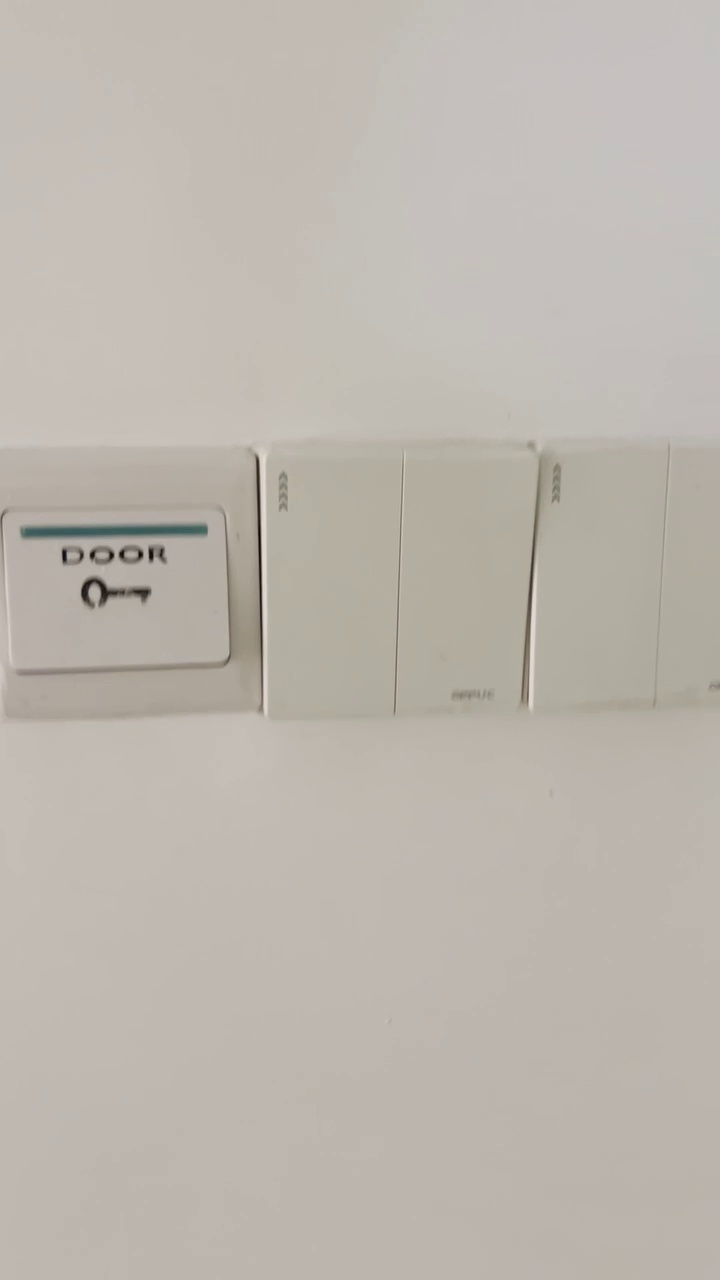button1: (530, 452, 662, 710), (269, 458, 393, 713), (402, 457, 526, 705), (662, 447, 719, 689)
